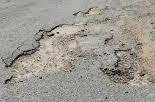pothole: (5, 1, 151, 95)
